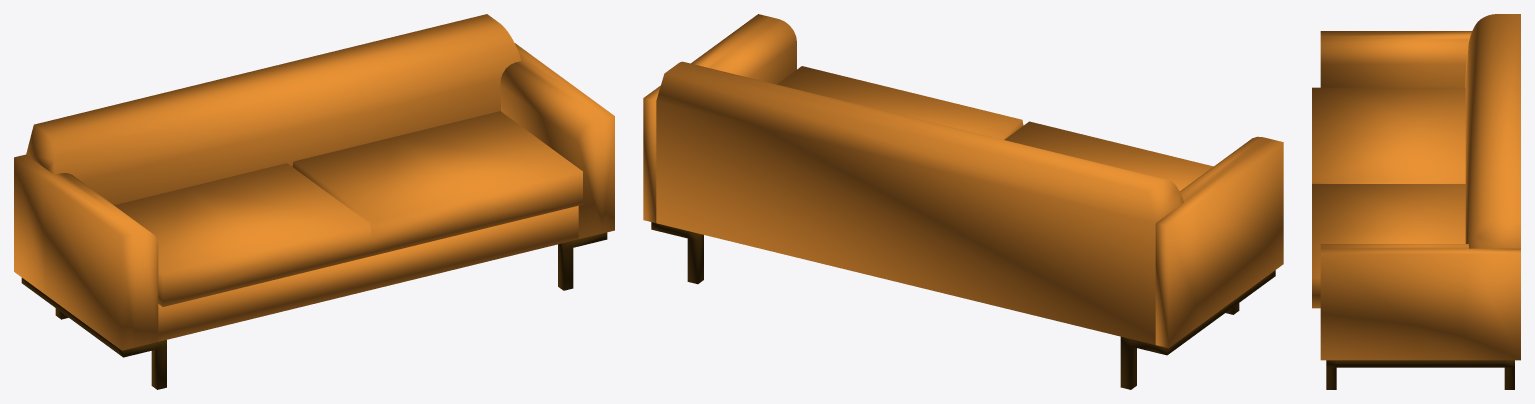
File: lowpoly_bigSofa.fbx
The picture shows the model from 3 angles, left to right: view 1: azimuth 30°, elevation 25°; view 2: azimuth 150°, elevation 25°; view 3: azimuth 270°, elevation 25°; orthographic projection. The views are drawn at different scales.
Visible parts, largest first — view 1: grosSofa; view 2: grosSofa; view 3: grosSofa.
Boxes of the visible parts, x1,y1,x2,y2 form: grosSofa: (14, 14, 614, 389); grosSofa: (643, 14, 1283, 389); grosSofa: (1312, 14, 1520, 389).
Bounding box in the file's own units: 203 × 76 × 80.25.
